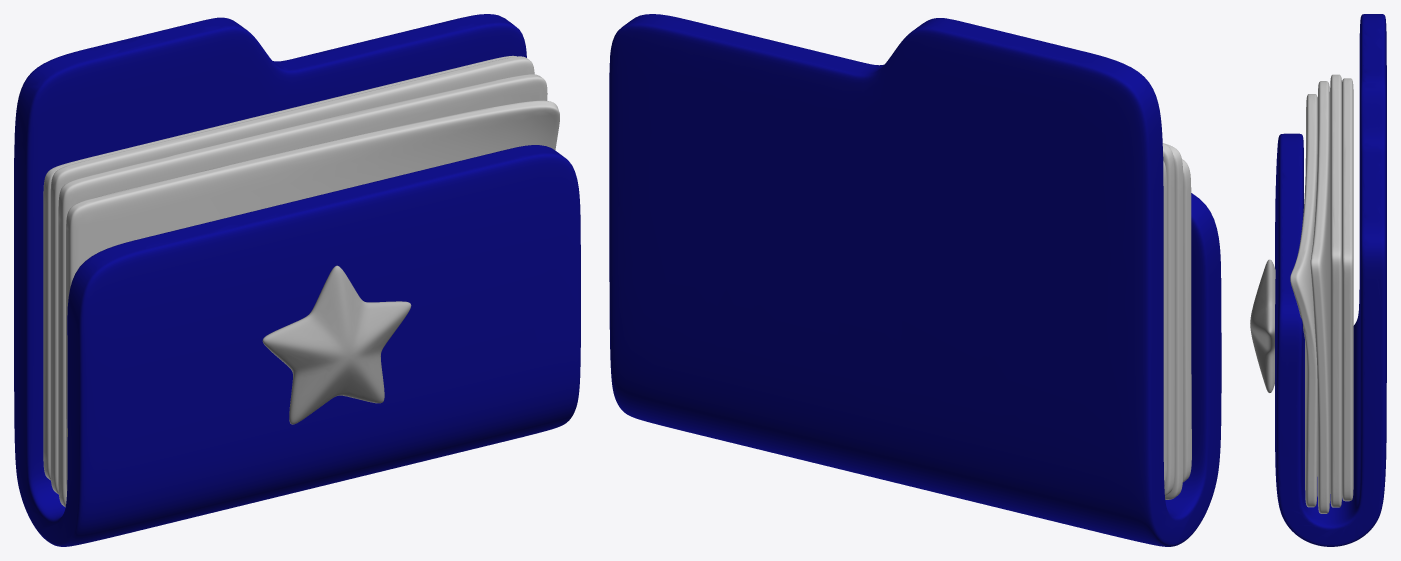
File: folder-fav.glb
The picture shows the model from 3 angles, left to right: view 1: azimuth 30°, elevation 25°; view 2: azimuth 150°, elevation 25°; view 3: azimuth 270°, elevation 25°; orthographic projection. The views are drawn at different scales.
Parts seen in each view (by area): view 1: Folder Star; view 2: Folder Star; view 3: Folder Star.
Boxes of the visible parts, box(x1,y1,x2,y2) form: Folder Star: box(14, 14, 580, 546); Folder Star: box(609, 14, 1221, 546); Folder Star: box(1250, 14, 1386, 546).
Bounding box in the file's own units: 1.9 × 1.65 × 0.5705.
